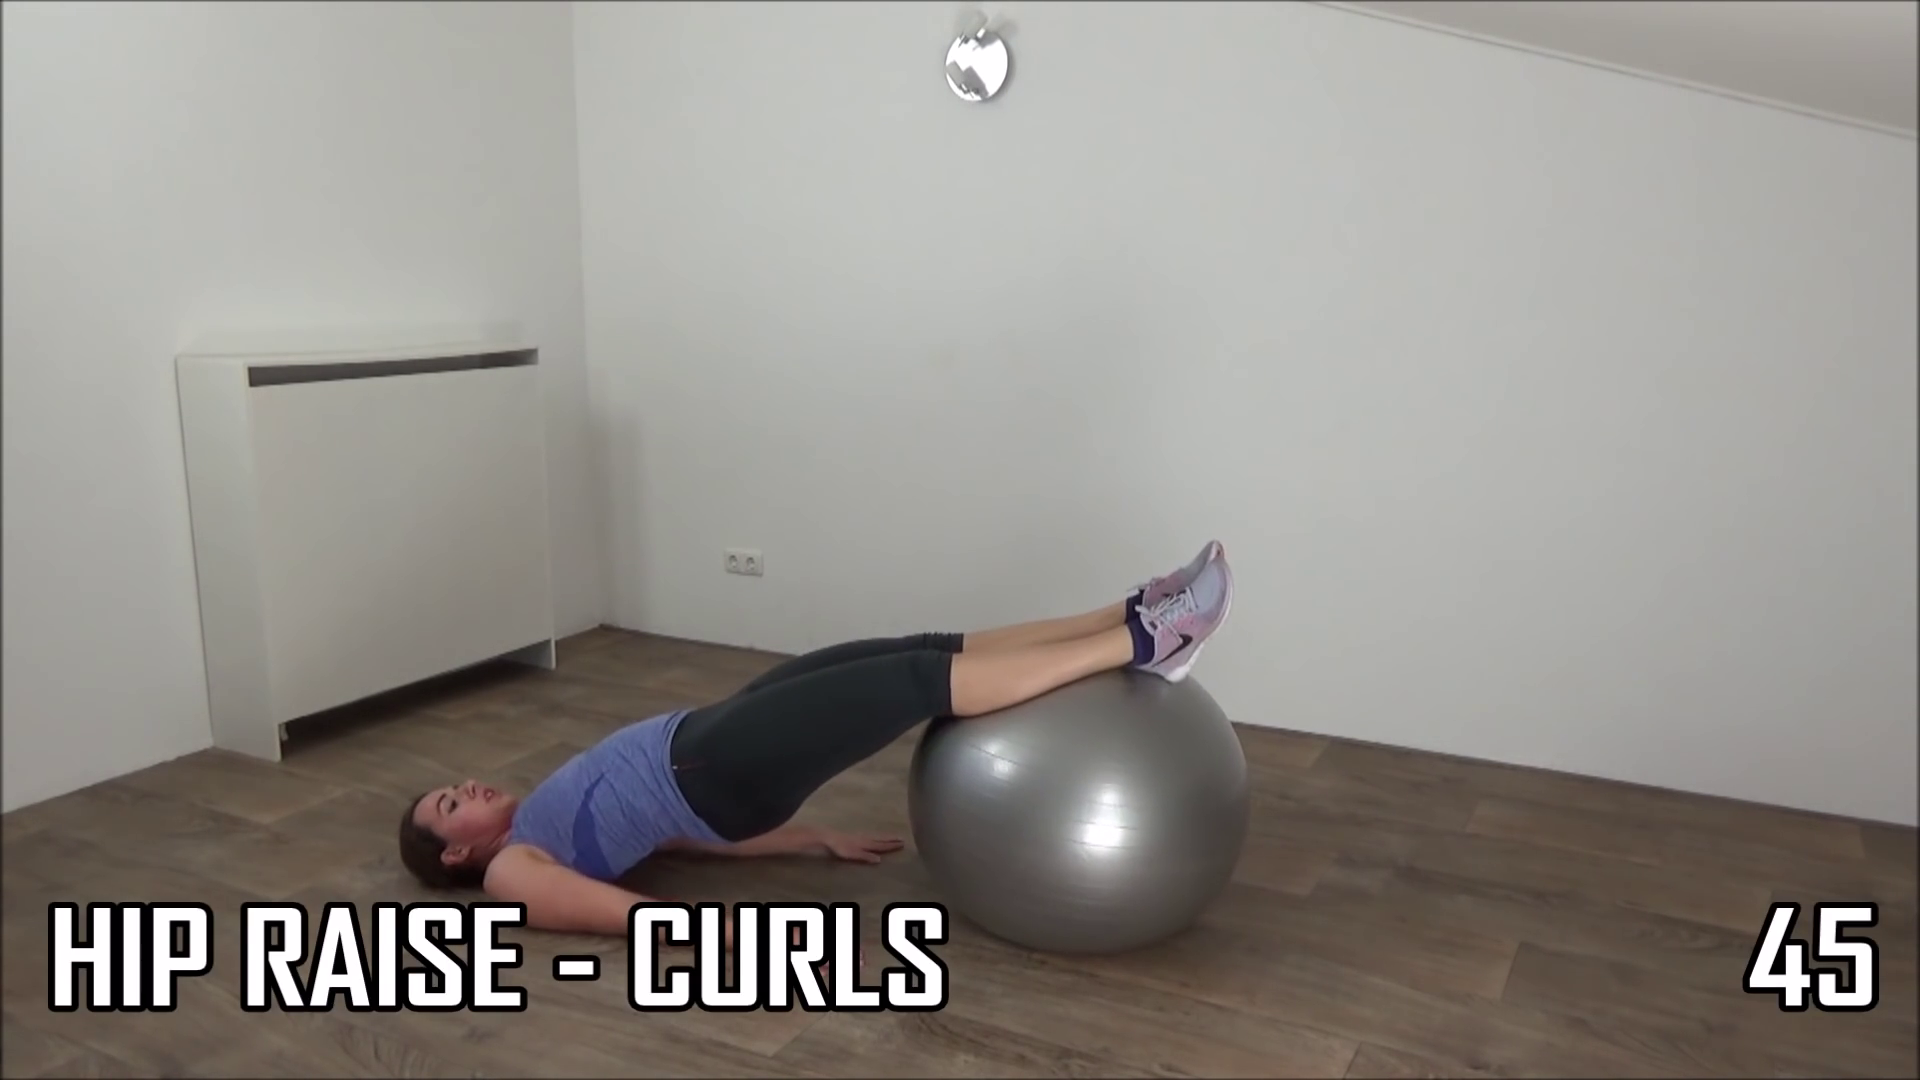yogaball: (895, 662, 1265, 965)
